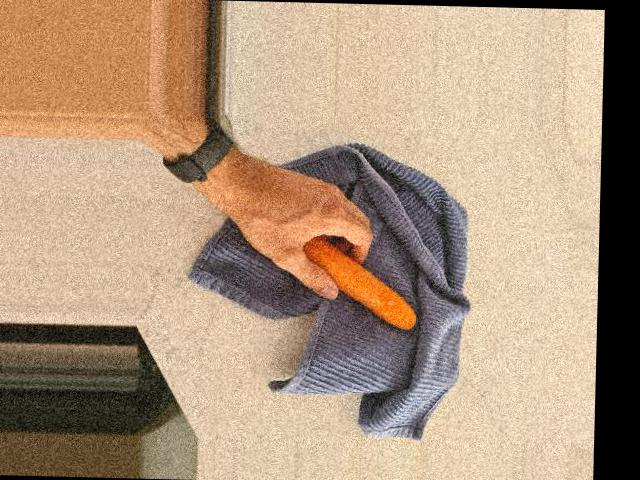carrot: (293, 237, 419, 332)
